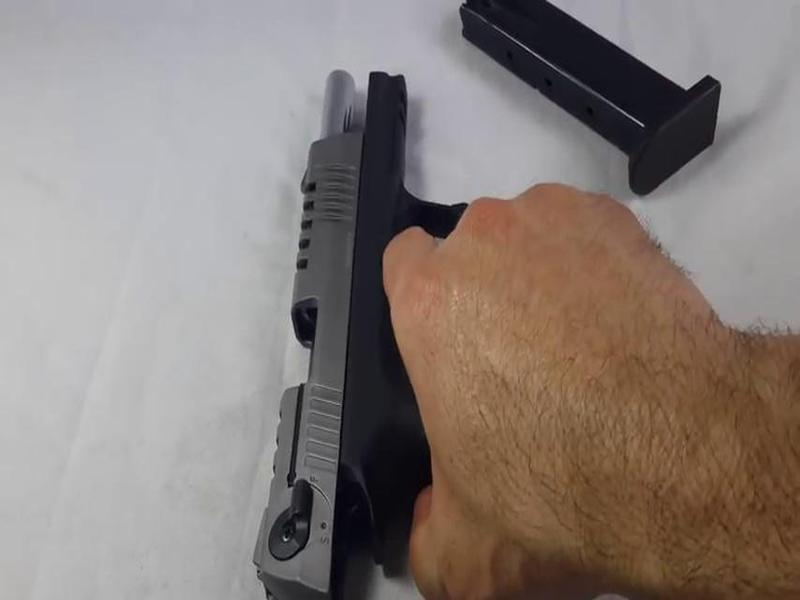Pistola: (227, 53, 504, 592)
